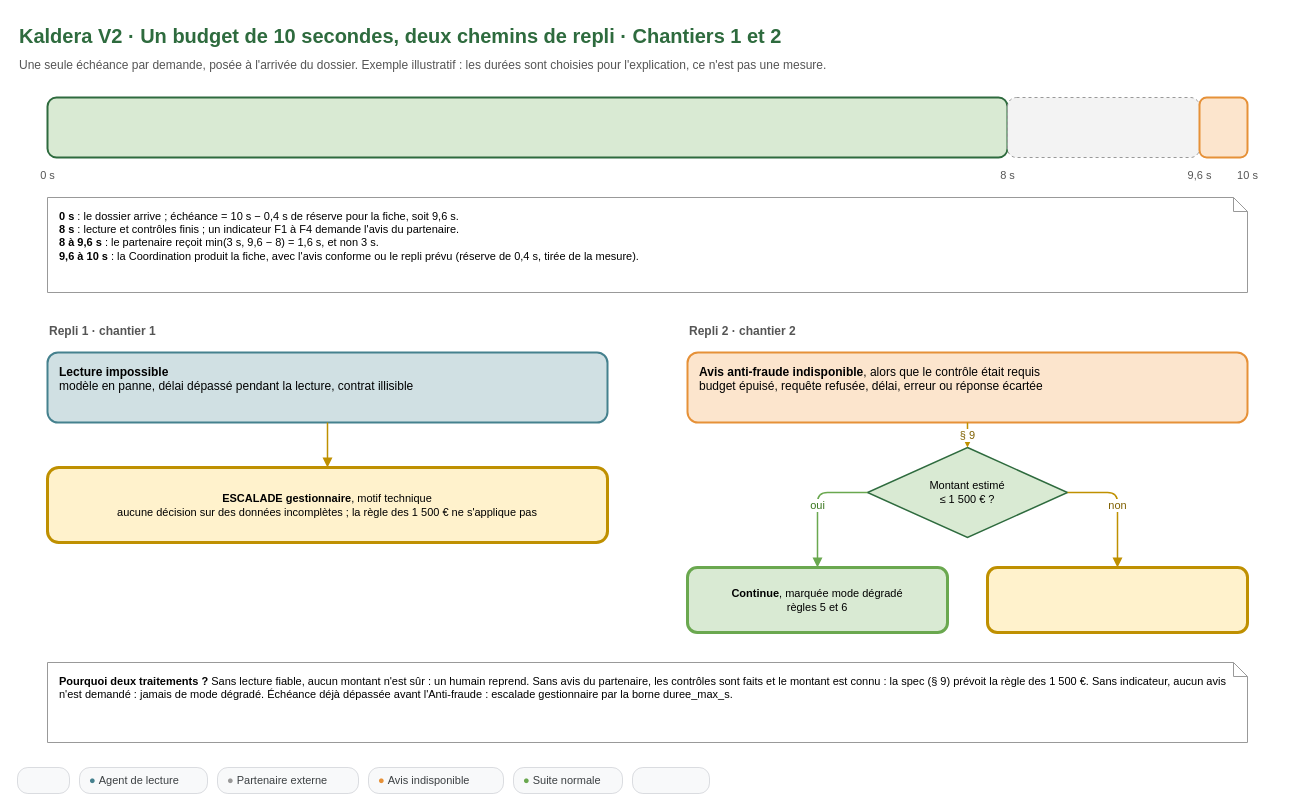
Image size: 1295x811. Some labels were removed from this diagram. The shapes that lost their labels are listed below. From the top down, each one's box as (x1, y1, x2, y2) in pixels, then its label:
(46, 96, 1008, 158): Lecture des pièces , puis Éligibilité, Pièces et Estimation
(1006, 96, 1200, 158): Partenaire 1,6 s au plus
(1198, 96, 1248, 158): fiche
(986, 566, 1248, 634): ESCALADE cellule_fraude contrôle manuel
(16, 766, 70, 794): ● Code
(632, 766, 710, 794): ● Escalade
